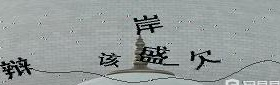chinese: (1, 55, 36, 83), (129, 11, 163, 35), (139, 43, 174, 66), (186, 51, 221, 73), (98, 48, 122, 70)
